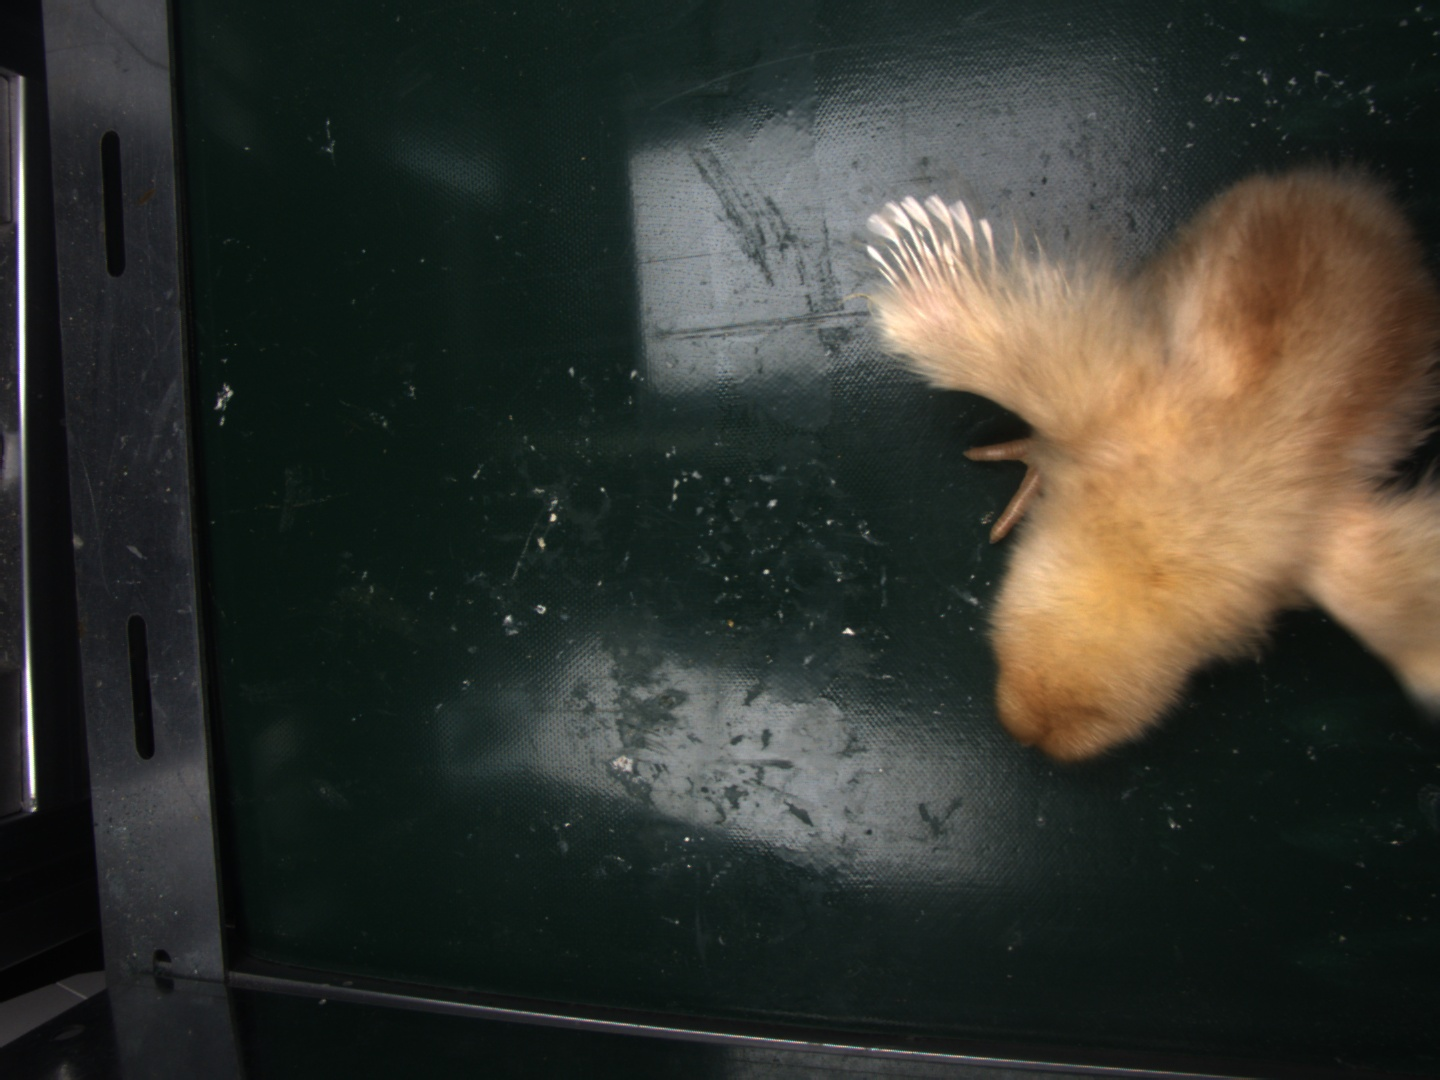female: (869, 194, 994, 292)
